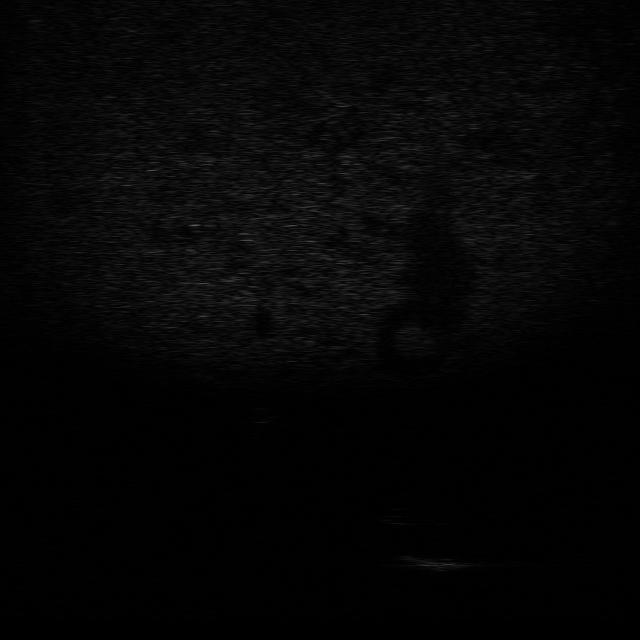ball: (239, 403, 280, 426)
metal bucket: (390, 552, 480, 574)
tyre: (382, 506, 448, 527)
